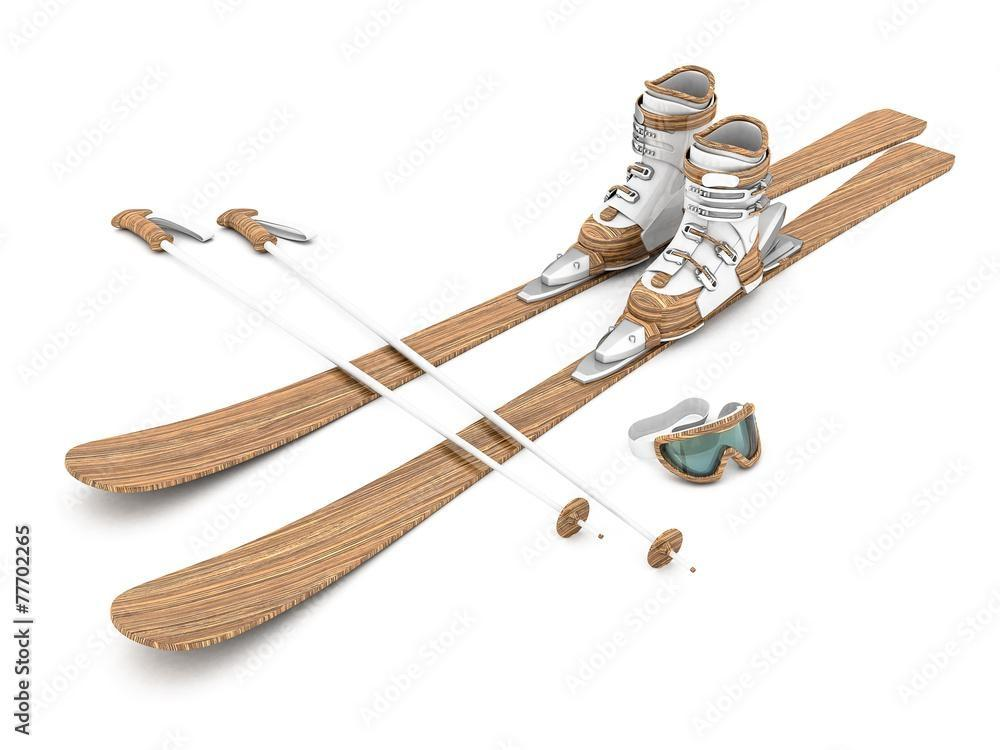Skis: (65, 81, 946, 679)
